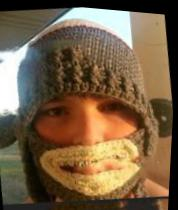WRONG: (19, 50, 159, 205)
